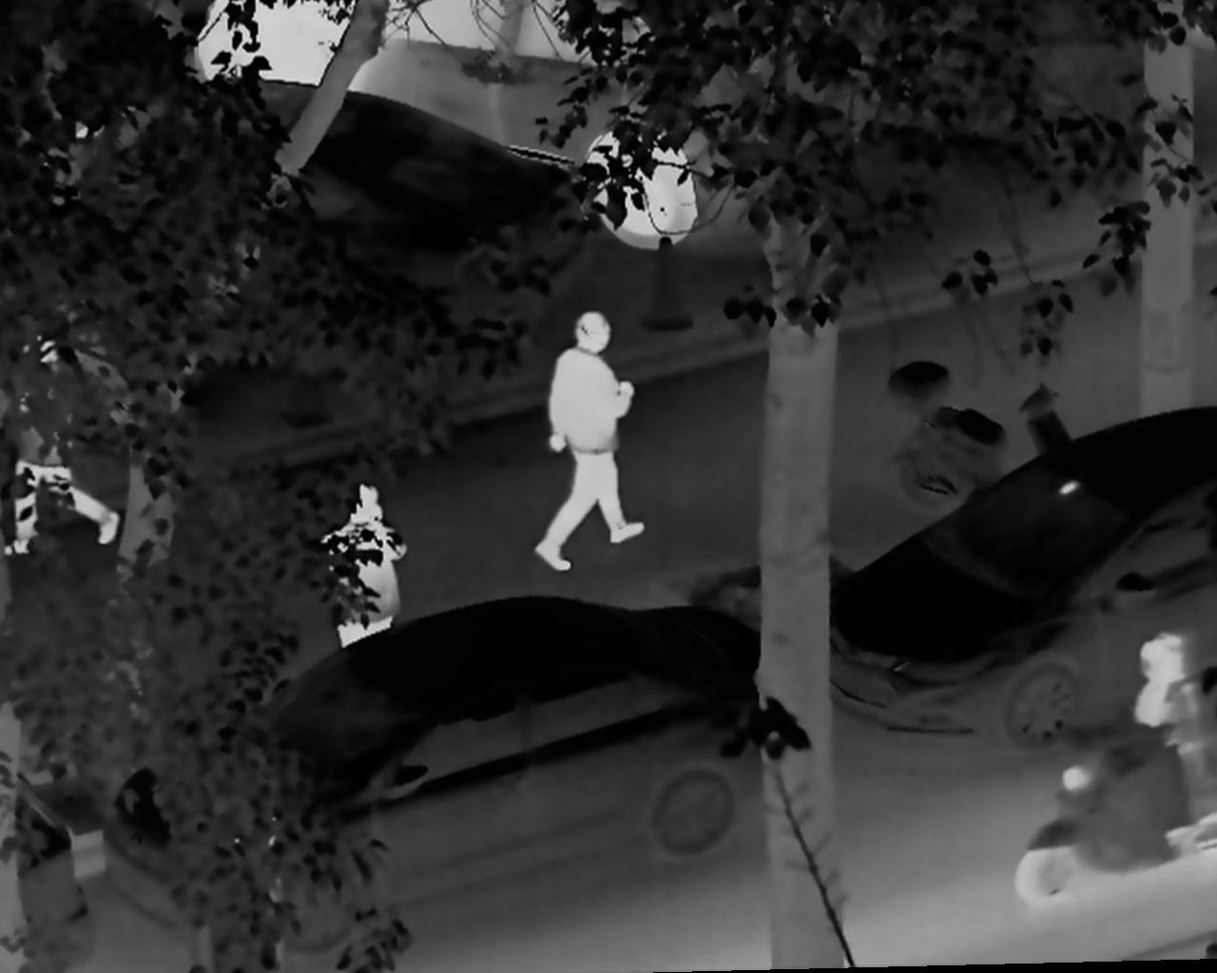person: (533, 312, 650, 571), (1121, 626, 1212, 828), (322, 478, 410, 654)
